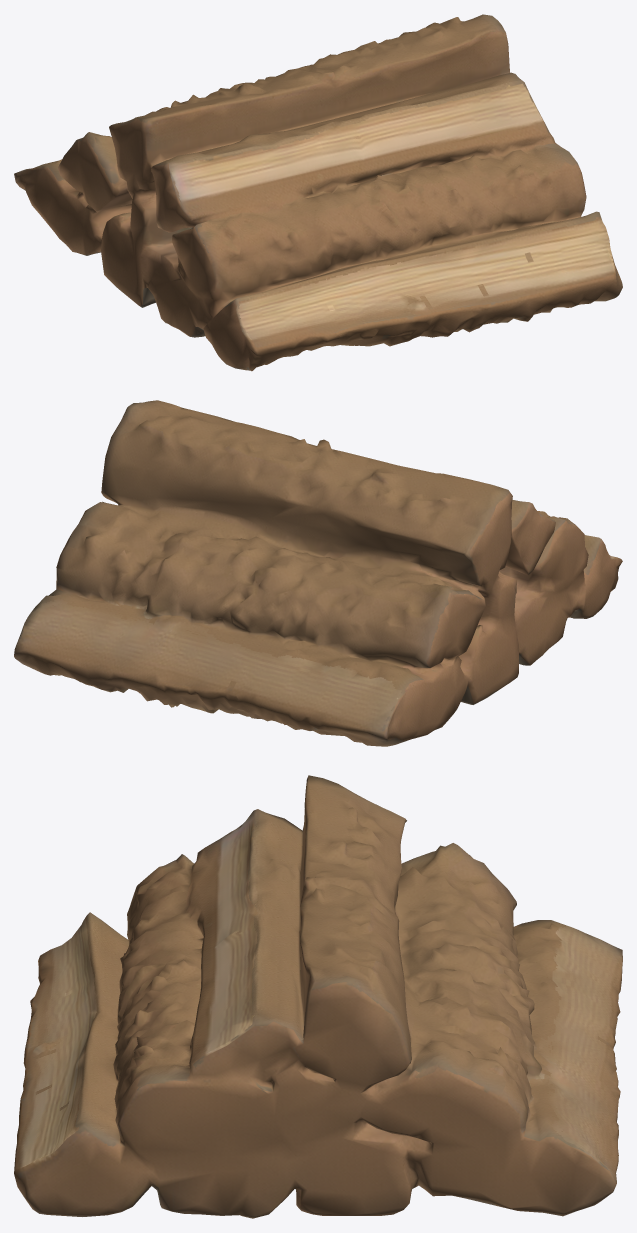
The model's file is pila_lena.glb.
3 views of the same model, one above another, from view 1: azimuth 30°, elevation 25°; view 2: azimuth 150°, elevation 25°; view 3: azimuth 270°, elevation 25° (orthographic). The views are drawn at different scales.
Visible parts, largest first — view 1: temp_mesh.ply; view 2: temp_mesh.ply; view 3: temp_mesh.ply.
Boxes of the visible parts, left/top/right/bottom form: temp_mesh.ply: left=14, top=14, right=622, bottom=371; temp_mesh.ply: left=14, top=400, right=622, bottom=746; temp_mesh.ply: left=14, top=775, right=622, bottom=1218.
Size of the model in its own units: 1.74 by 0.8757 by 2.
1 material, 1 textured.
